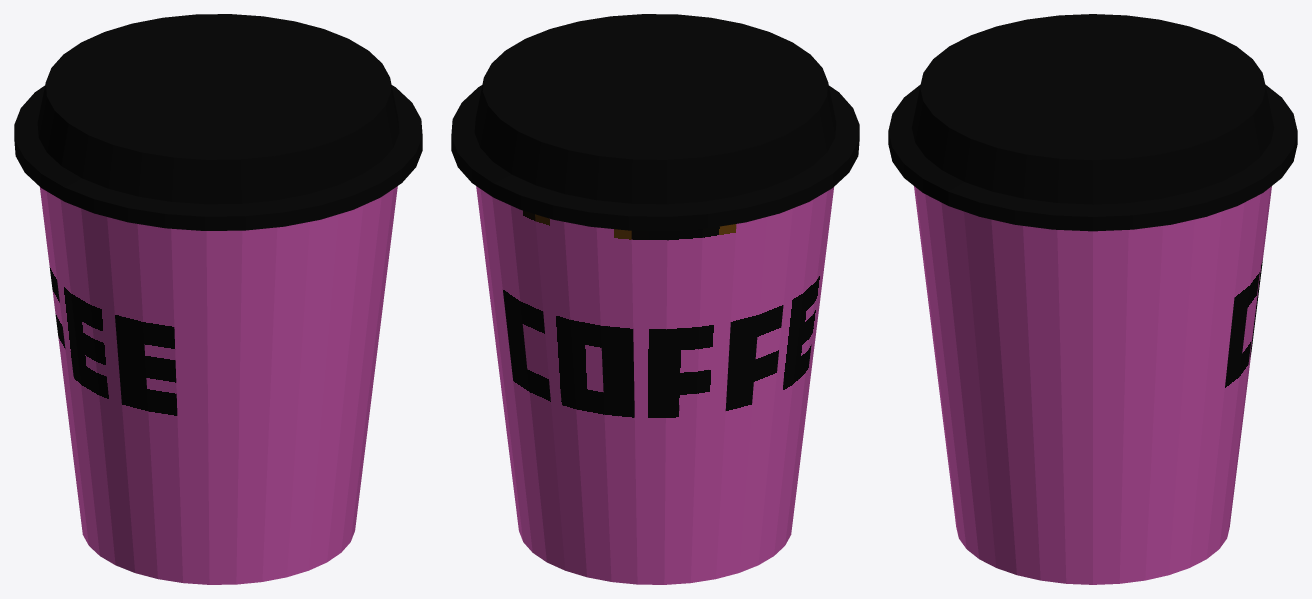
The model's file is raf.fbx.
3 views of the same model, side by side, from view 1: azimuth 30°, elevation 25°; view 2: azimuth 150°, elevation 25°; view 3: azimuth 270°, elevation 25° (orthographic).
Parts seen in each view (by area): view 1: Cylinder; view 2: Cylinder; view 3: Cylinder.
Boxes of the visible parts, x1,y1,x2,y2 form: Cylinder: [14, 14, 422, 584]; Cylinder: [451, 14, 859, 584]; Cylinder: [888, 14, 1297, 584].
Bounding box in the file's own units: 223 × 265 × 223.
Materials: 1 (1 with a texture image).
